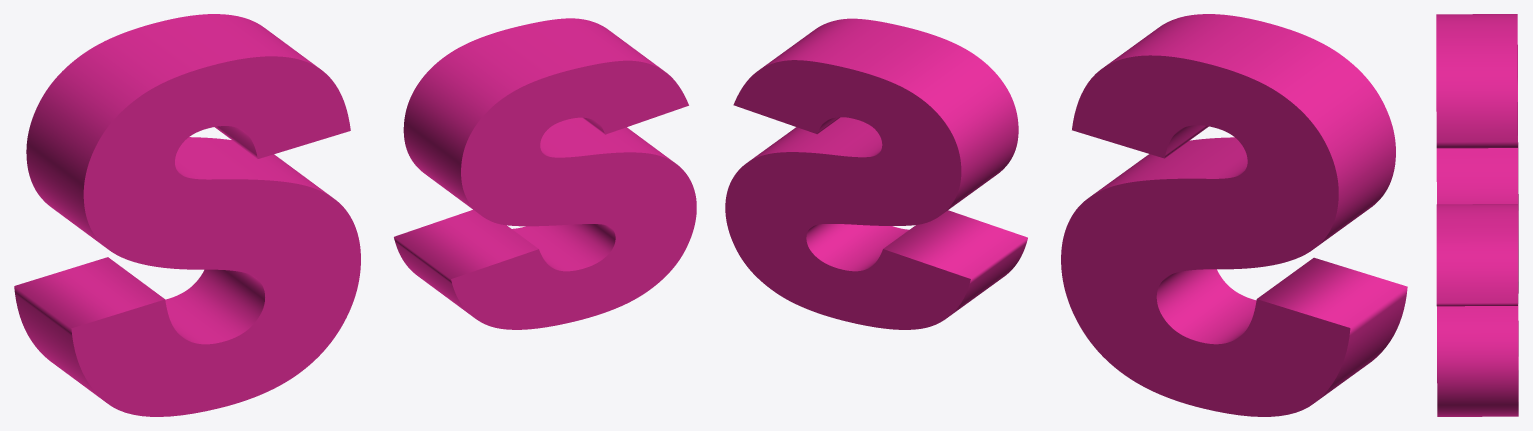
Rendered from letra s.fbx.
The picture shows the model from 3 angles, left to right: view 1: azimuth 30°, elevation 25°; view 2: azimuth 150°, elevation 25°; view 3: azimuth 270°, elevation 25°; orthographic projection. The views are drawn at different scales.
Parts seen in each view (by area): view 1: Text; view 2: Text; view 3: Text.
Part boxes in pixels (x1,y1,x2,y2): Text: (14,14,696,416); Text: (725,14,1407,416); Text: (1436,14,1518,416).
Size of the model in its own units: 101 by 53.31 by 16.22.
